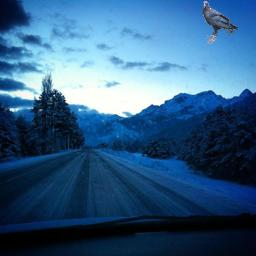Crow: (203, 1, 238, 44)
